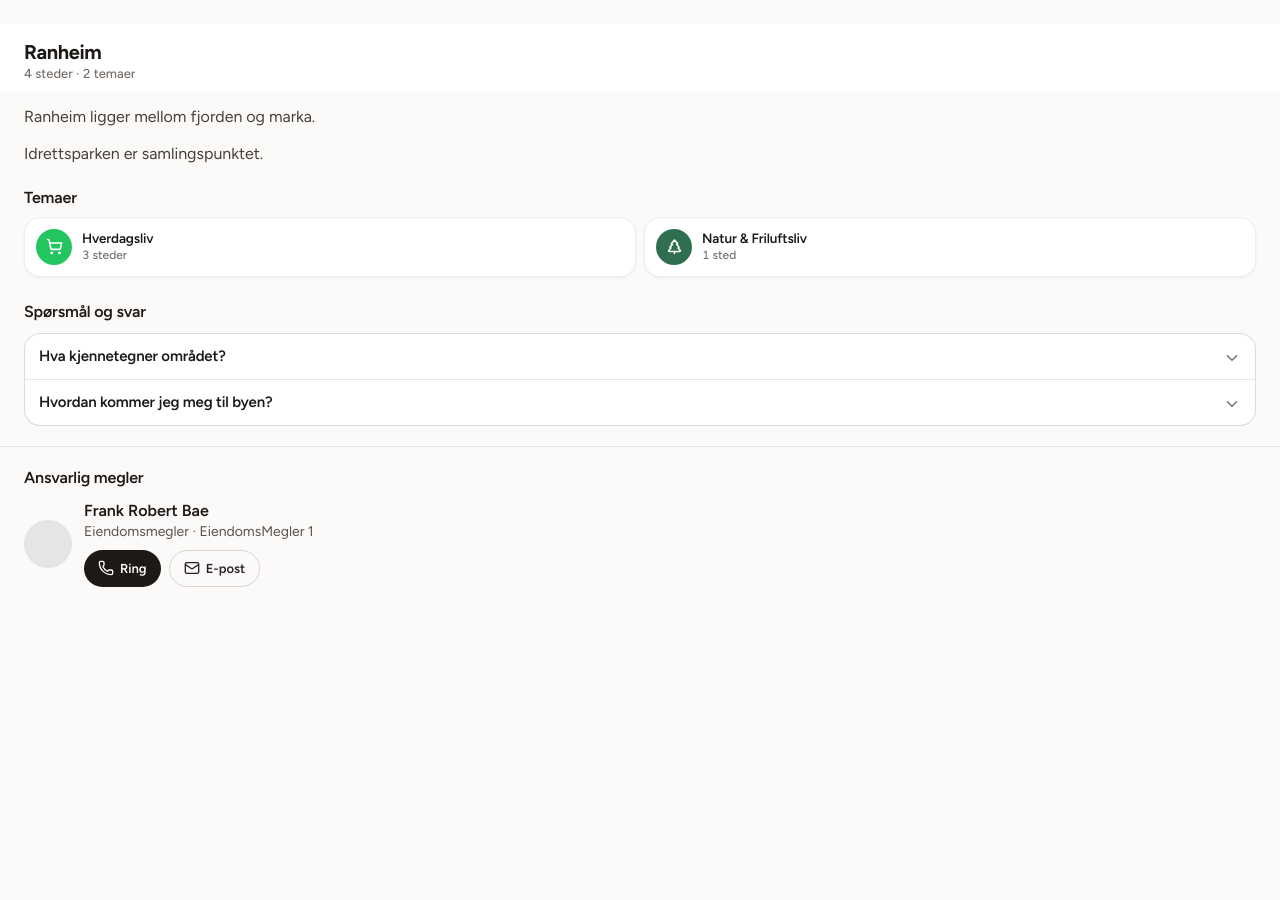
it: temarutenettet på områdestoppet (2026-09-05) › «Tilbake» er veien tilbake: rutenettet igjen, raden borte
This screenshot has width=1280, height=900.
Click the text "Hverdagsliv".
click(118, 238)  # box top-left (82, 230), bottom-right (153, 246)
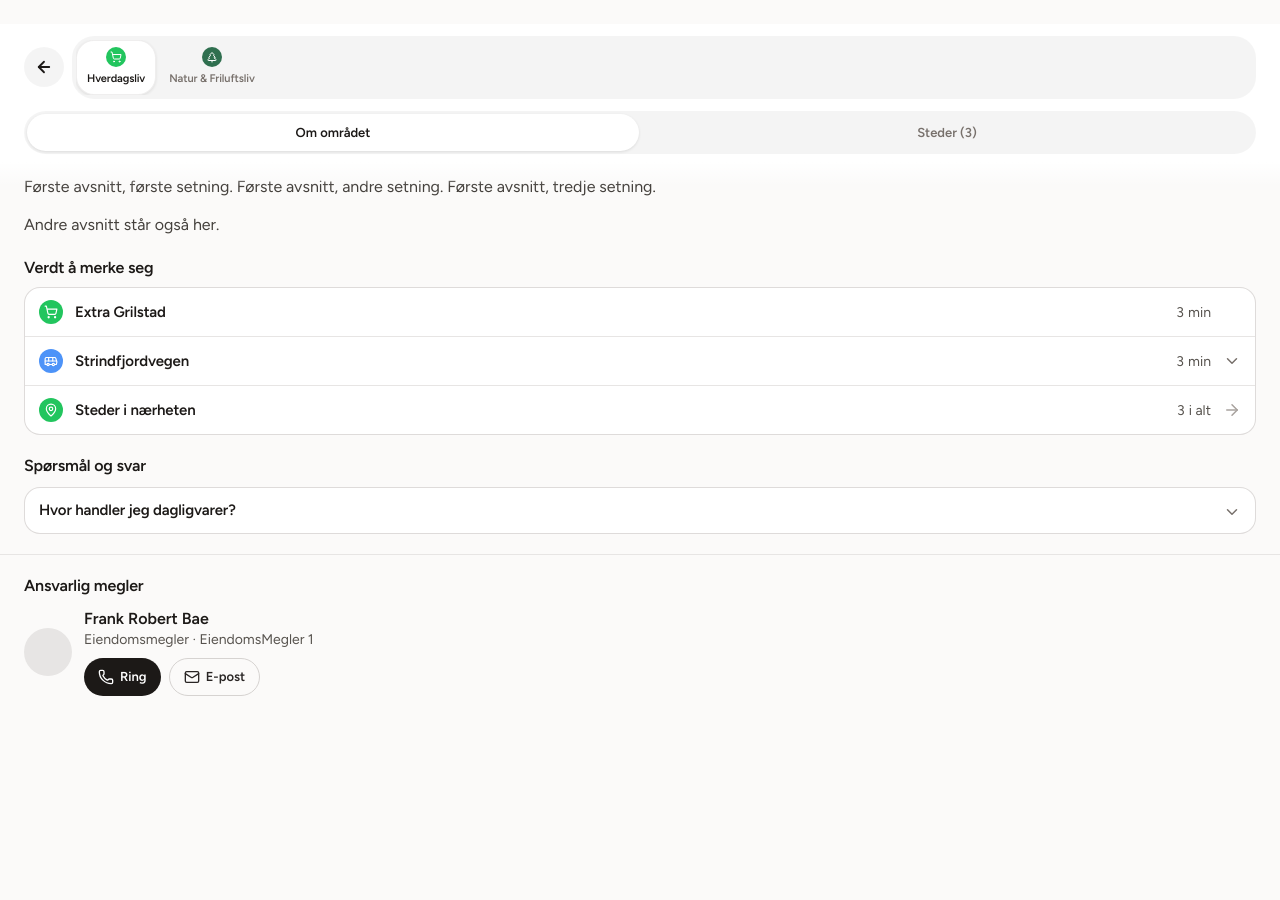
Click the button named "Tilbake".
click(44, 67)  # box top-left (24, 47), bottom-right (64, 87)
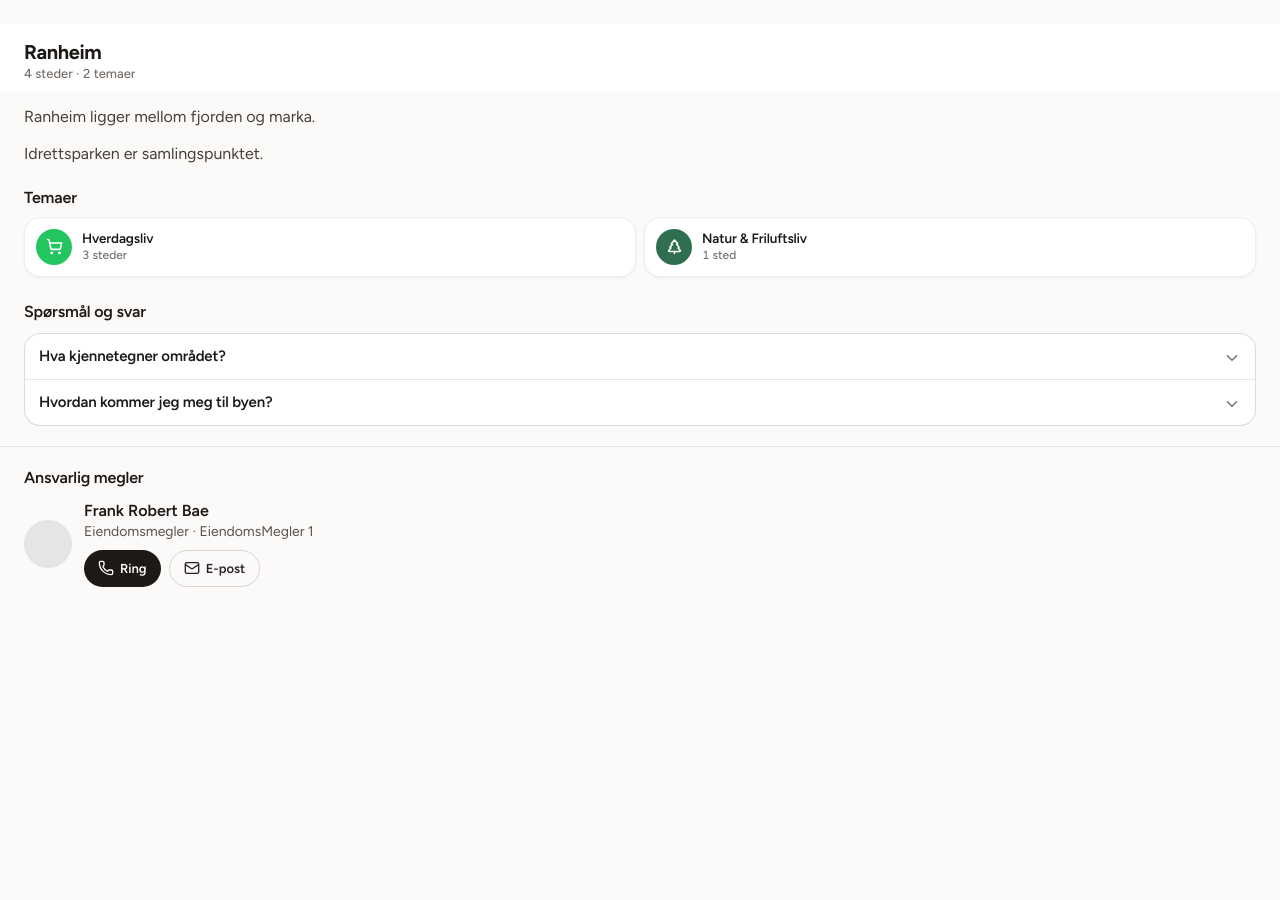
Expected: the heading "Ranheim" is shown, top-left (24, 40), bottom-right (101, 64)
Expected: the element with test id "story-theme-grid" is shown, top-left (24, 187), bottom-right (1256, 277)
Expected: the element "Stopp" is gone
